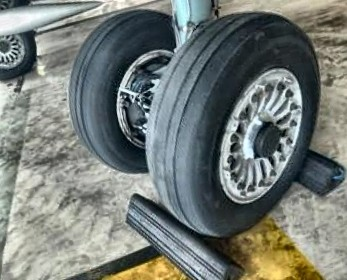chock: (119, 173, 251, 280), (263, 132, 347, 206)
wheel: (131, 2, 347, 245), (54, 2, 207, 186), (0, 22, 42, 88)
